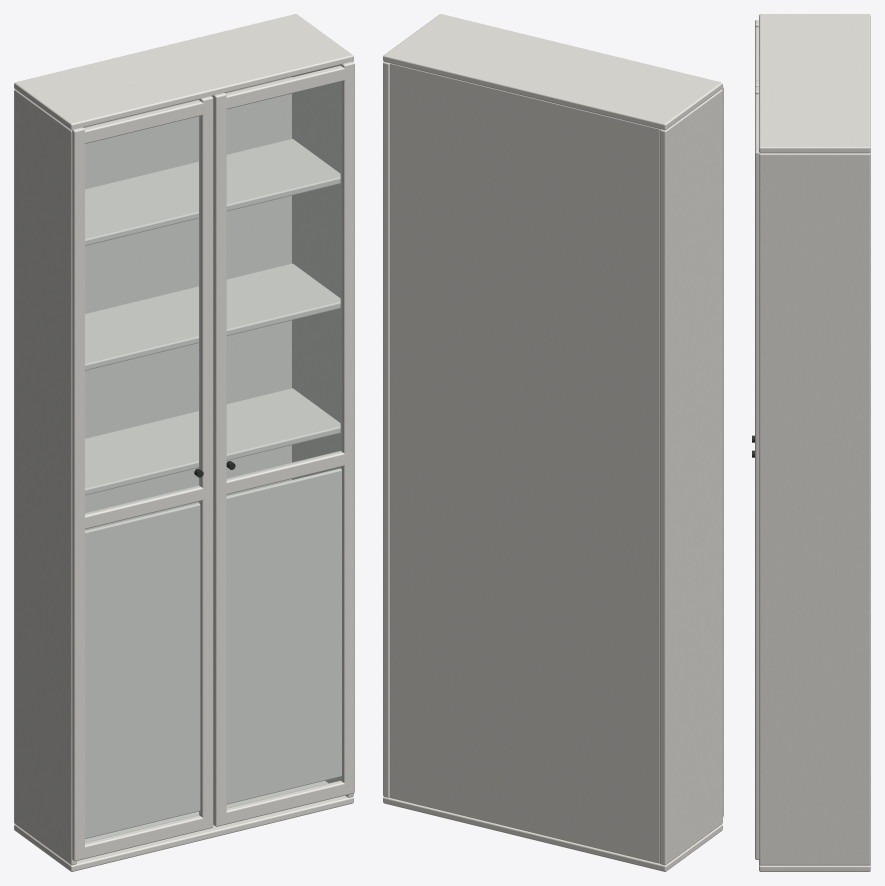
The model's file is billy-oxberg.glb.
The picture shows the model from 3 angles, left to right: view 1: azimuth 30°, elevation 25°; view 2: azimuth 150°, elevation 25°; view 3: azimuth 270°, elevation 25°; orthographic projection. The views are drawn at different scales.
Visible parts, largest first — view 1: BILLY / OXBERG Bookcase with glass/panel doors; view 2: BILLY / OXBERG Bookcase with glass/panel doors; view 3: BILLY / OXBERG Bookcase with glass/panel doors.
Boxes of the visible parts, box(x1,y1,x2,y2) form: BILLY / OXBERG Bookcase with glass/panel doors: box(14, 14, 354, 871); BILLY / OXBERG Bookcase with glass/panel doors: box(383, 14, 723, 871); BILLY / OXBERG Bookcase with glass/panel doors: box(752, 14, 870, 871).
Bounding box in the file's own units: 0.8 × 2.02 × 0.3.
3 materials, 2 textured.
